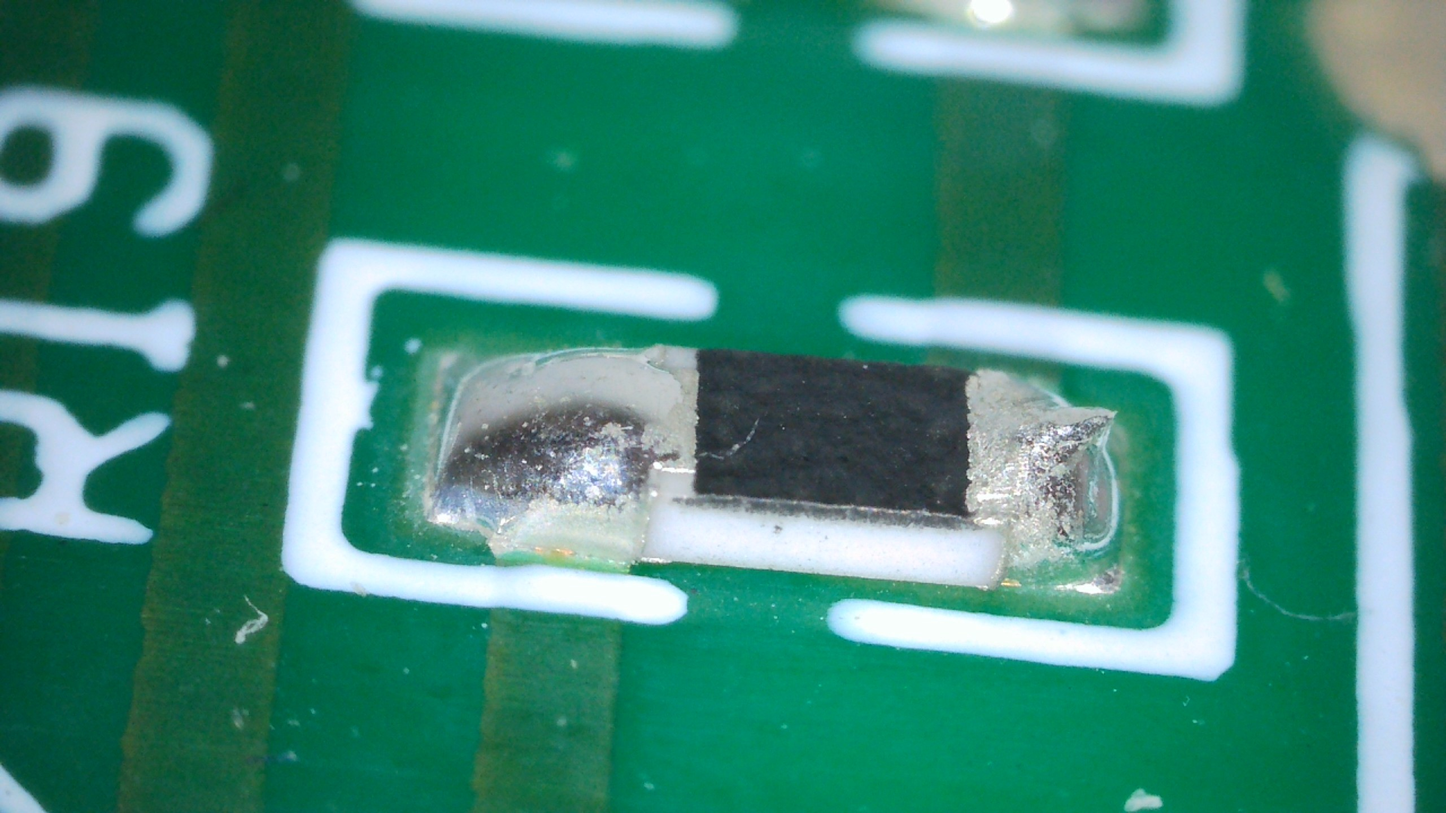NG: (430, 343, 698, 563), (966, 370, 1119, 589), (1010, 408, 1117, 562)
